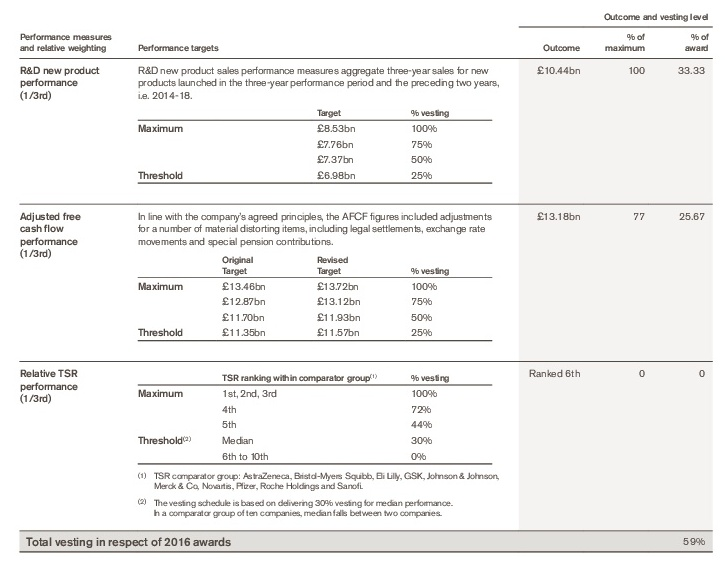table: (0, 0, 725, 563)
